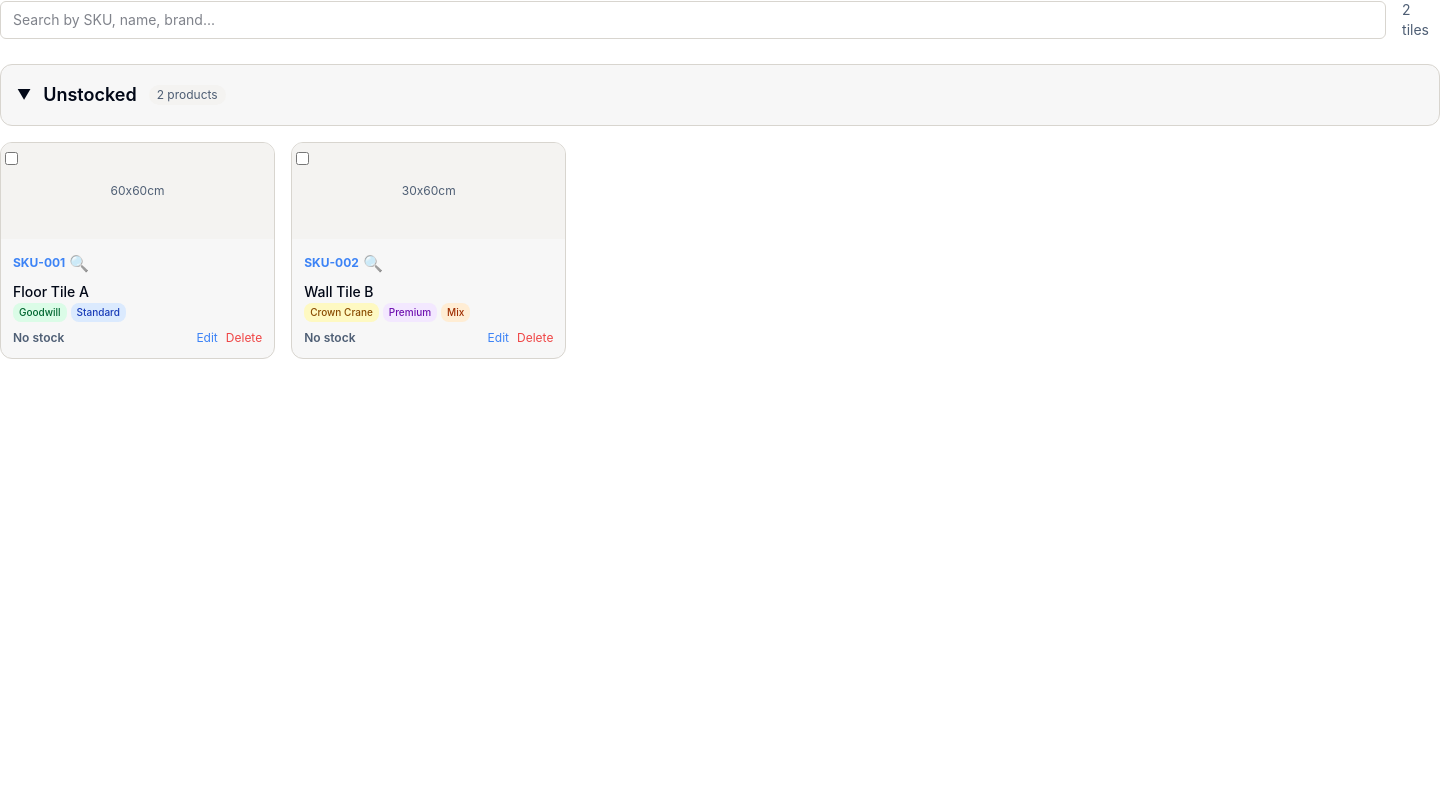
Test: TileList › shows delete confirmation modal
Click the button "Delete" below "Goodwill".
click(244, 338)  # box [226,330,262,346]
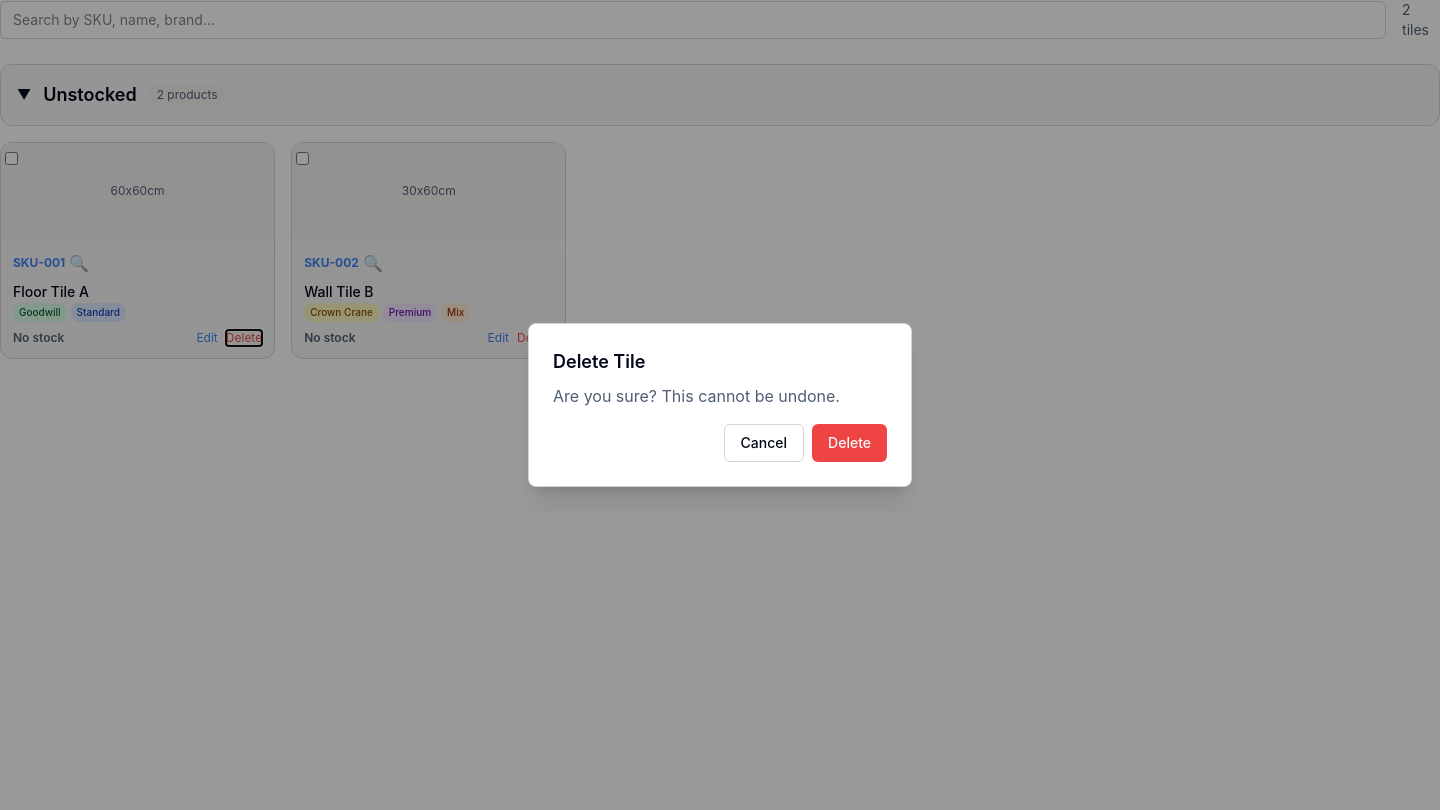
Check: the text "Are you sure? This cannot be undone." is shown, box [553,384,887,408]
